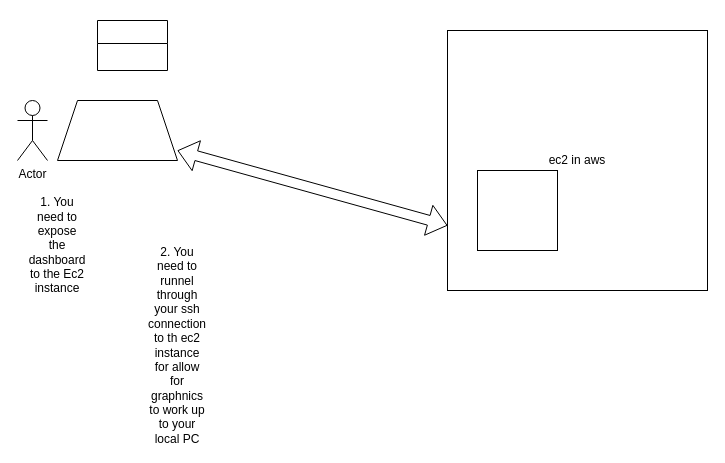
Image size: 725x463. Some labels were removed from this diagram. The shapes that lost their labels are listed below. From the top down, each one's box as (x1, y1, x2, y2) in pixels, then its label:
(96, 20, 168, 70): Vertical Container
(476, 170, 558, 250): minikube
